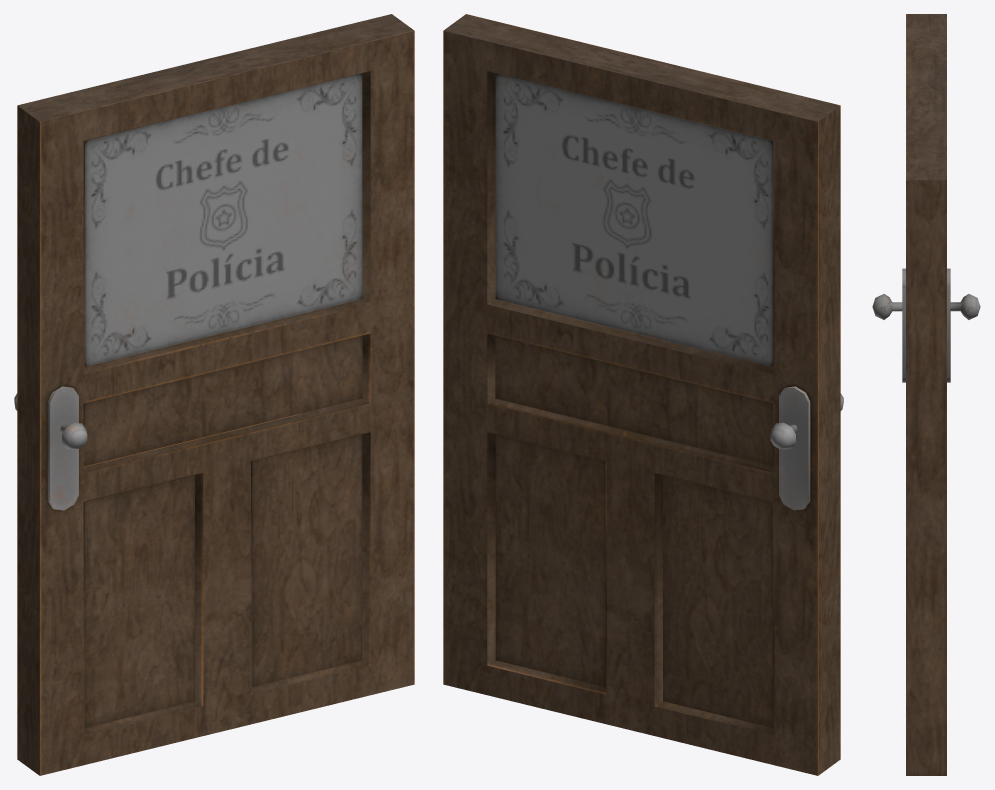
Rendered from L_InteriorDoor_Chief.fbx.
3 views of the same model, side by side, from view 1: azimuth 30°, elevation 25°; view 2: azimuth 150°, elevation 25°; view 3: azimuth 270°, elevation 25° (orthographic). The views are drawn at different scales.
Visible parts, largest first — view 1: InteriorDoor; view 2: InteriorDoor; view 3: InteriorDoor.
Part boxes in pixels (bbox=[...]): InteriorDoor: bbox=[14, 14, 414, 775]; InteriorDoor: bbox=[443, 14, 843, 775]; InteriorDoor: bbox=[872, 14, 980, 775].
Bounding box in the file's own units: 141 × 236 × 38.83.
